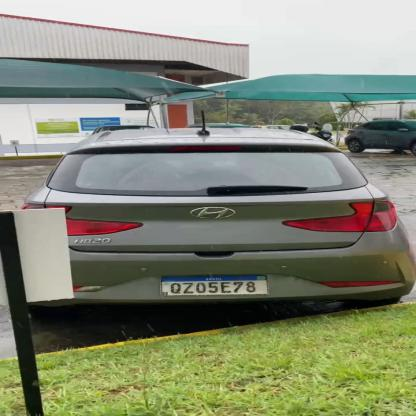Plate: (157, 270, 277, 298)
